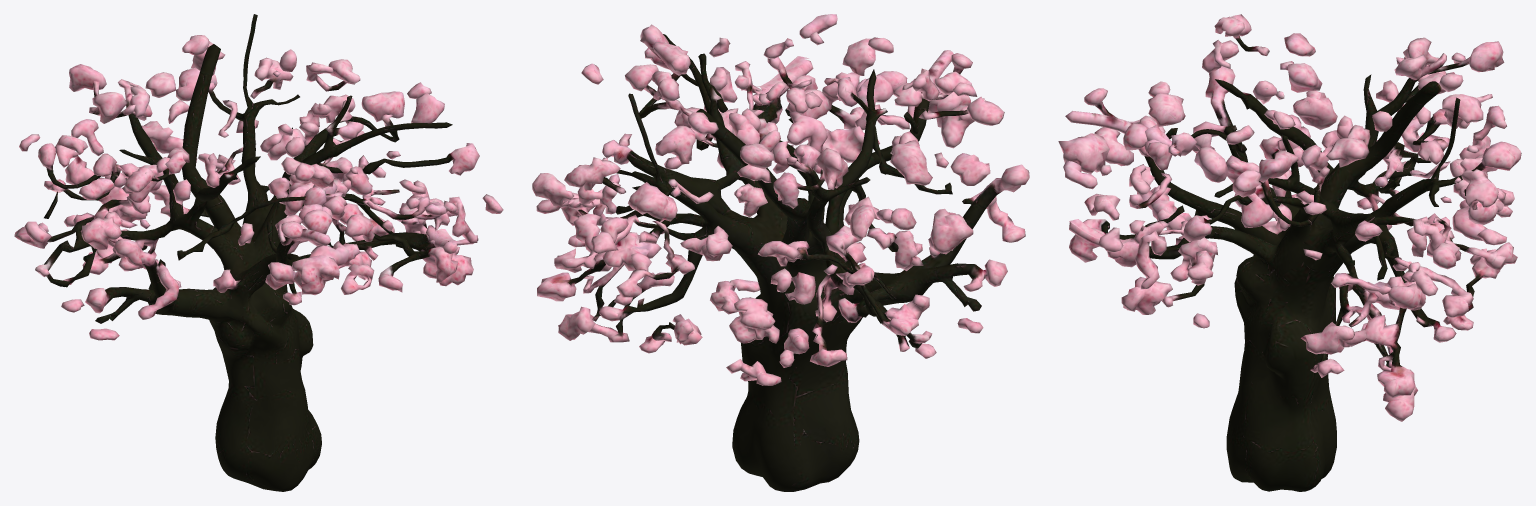
Rendered from cherry_tree.glb.
3 renders of one model, left to right at view 1: azimuth 30°, elevation 25°; view 2: azimuth 150°, elevation 25°; view 3: azimuth 270°, elevation 25°, orthographic. The views are drawn at different scales.
Bounding box in the file's own units: 1.89 × 1.89 × 1.89.
Materials: 1 (1 with a texture image).
